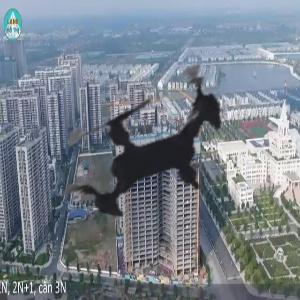drone: (6, 14, 291, 299)
